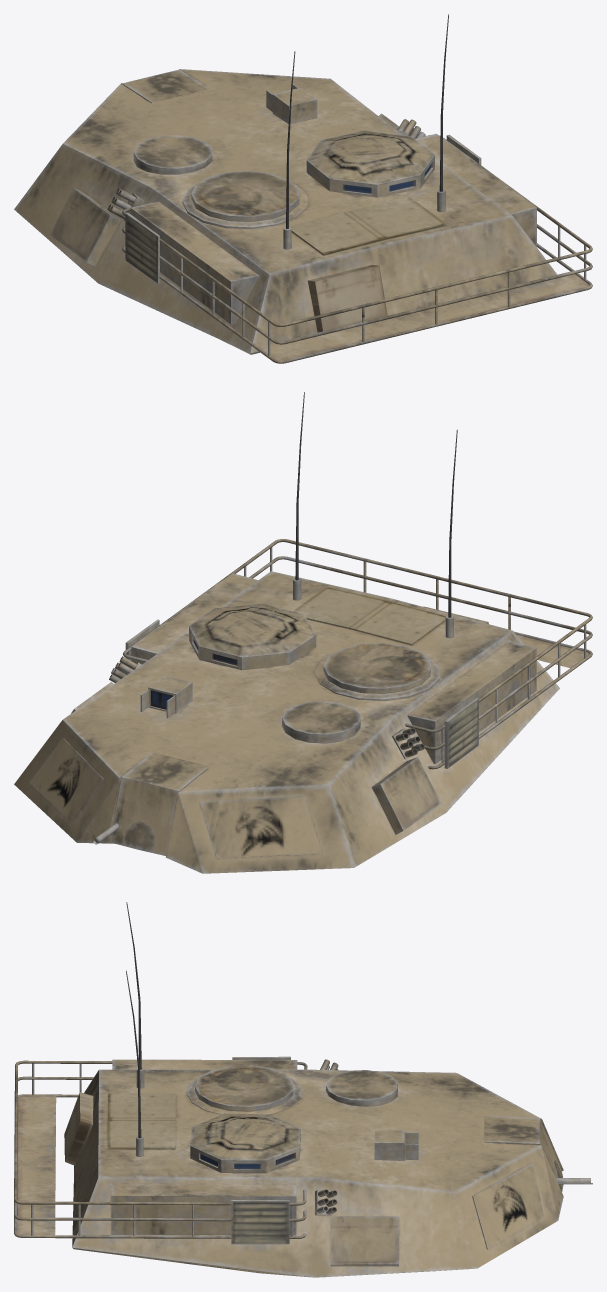
The model's file is Tank_Rack.obj.
3 views of the same model, one above another, from view 1: azimuth 30°, elevation 25°; view 2: azimuth 150°, elevation 25°; view 3: azimuth 270°, elevation 25° (orthographic). The views are drawn at different scales.
Parts seen in each view (by area): view 1: Abrams_Tower, Abrams_Tower.001; view 2: Abrams_Tower, Abrams_Tower.001; view 3: Abrams_Tower, Abrams_Tower.001.
Part boxes in pixels (left/top/right/bottom): Abrams_Tower: left=14, top=14, right=592, bottom=363; Abrams_Tower.001: left=122, top=69, right=209, bottom=102; Abrams_Tower: left=14, top=392, right=592, bottom=873; Abrams_Tower.001: left=95, top=752, right=209, bottom=855; Abrams_Tower: left=14, top=902, right=592, bottom=1277; Abrams_Tower.001: left=484, top=1115, right=590, bottom=1191.
Bounding box in the file's own units: 3.66 × 2.94 × 5.64.
